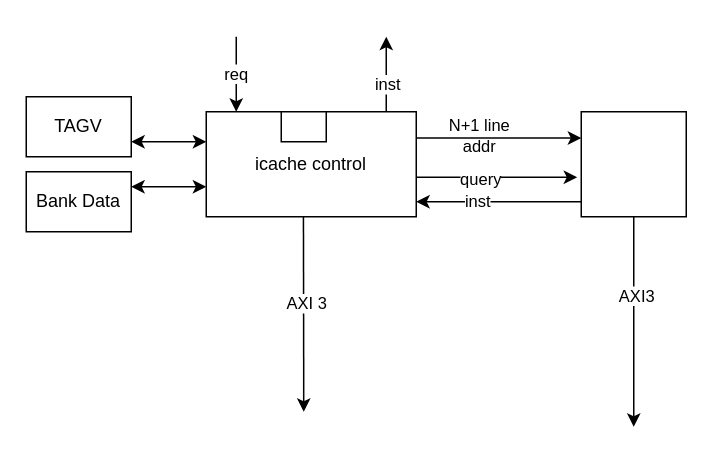
Some shapes in this 713 by 465 pixel diagram are drawn without their labels. The centre of each missing label's shape, as x and y in pixels:
"LRU" belongs at point (303, 126).
"N+1 prefetcher" belongs at point (633, 163).
